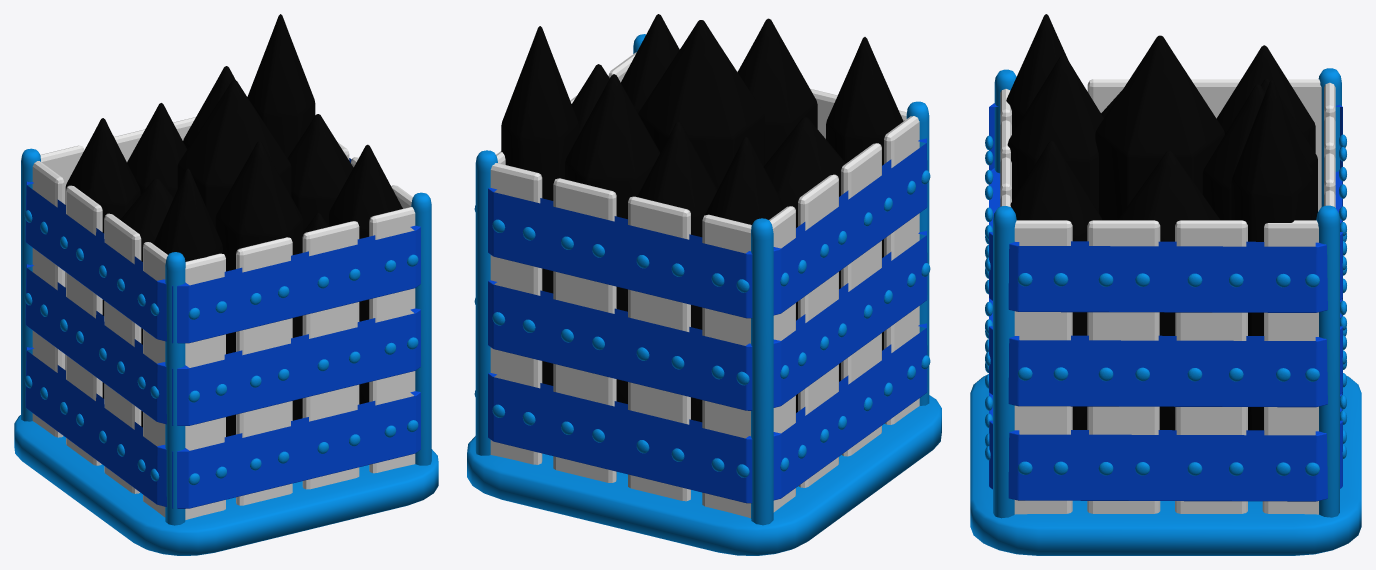
File: SchiebeBox.fbx
3 renders of one model, left to right at view 1: azimuth 30°, elevation 25°; view 2: azimuth 150°, elevation 25°; view 3: azimuth 270°, elevation 25°, orthographic. The views are drawn at different scales.
Parts seen in each view (by area): view 1: Cube, Cube.001, Cube.002, Cube.004; view 2: Cube, Cube.004, Cube.002, Cube.001; view 3: Cube, Cube.003, Cube.002, Cube.004, Cube.001.
Boxes of the visible parts, x1,y1,x2,y2 form: Cube: (14,14,438,555); Cube.001: (185,207,415,519); Cube.002: (32,161,167,517); Cube.004: (40,117,195,370); Cube: (467,14,941,555); Cube.004: (490,163,751,518); Cube.002: (769,116,919,512); Cube.001: (737,71,906,138); Cube: (970,14,1361,555); Cube.003: (1014,220,1318,514); Cube.002: (1087,79,1321,211); Cube.004: (1324,82,1335,207); Cube.001: (1000,89,1011,206).
Size of the model in its own units: 200 by 256 by 200.
